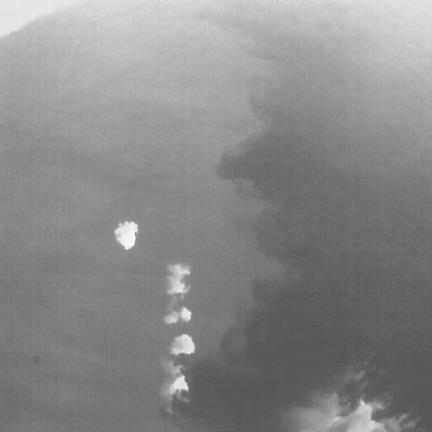flukeprints: (167, 263, 190, 298), (115, 221, 138, 250), (169, 334, 194, 355), (169, 373, 188, 399), (164, 310, 178, 323), (179, 306, 191, 321)
